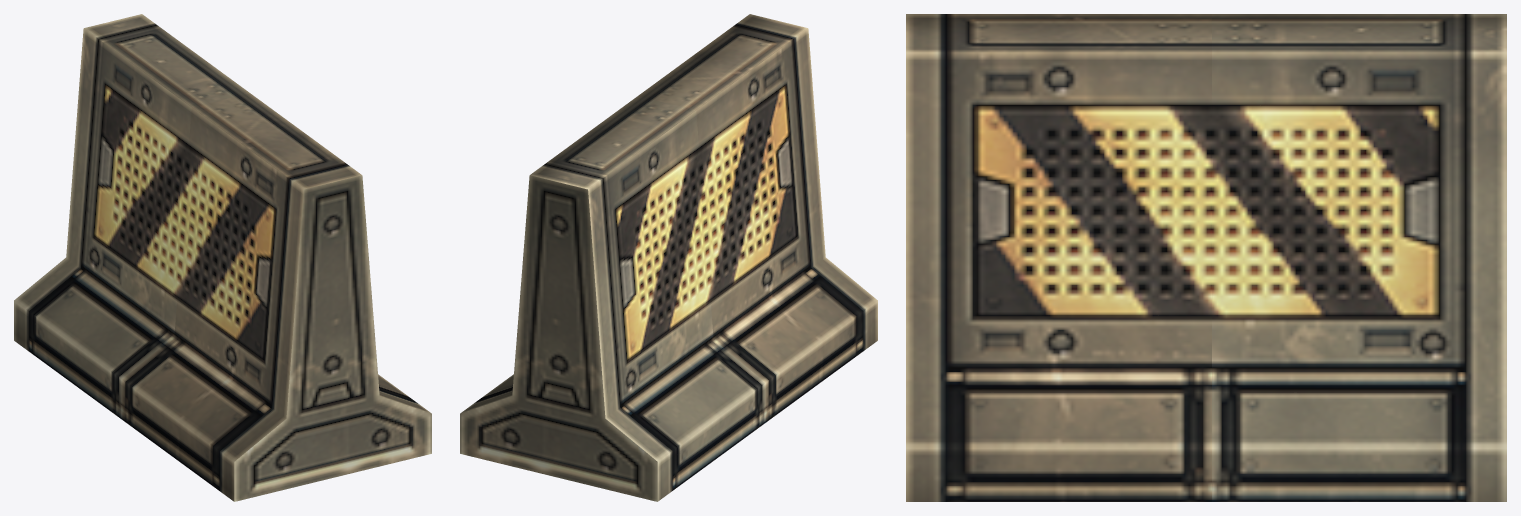
Rendered from mprw_cover_short.FBX.
3 renders of one model, left to right at view 1: azimuth 30°, elevation 25°; view 2: azimuth 150°, elevation 25°; view 3: azimuth 270°, elevation 25°, orthographic. The views are drawn at different scales.
Visible parts, largest first — view 1: mprw_cover_short; view 2: mprw_cover_short; view 3: mprw_cover_short.
Part boxes in pixels (x1=…): mprw_cover_short: x1=14, y1=14, x2=431, y2=501; mprw_cover_short: x1=460, y1=14, x2=877, y2=501; mprw_cover_short: x1=906, y1=14, x2=1506, y2=501.
Size of the model in its own units: 90.93 by 130 by 176.
Materials: 1 (1 with a texture image).
